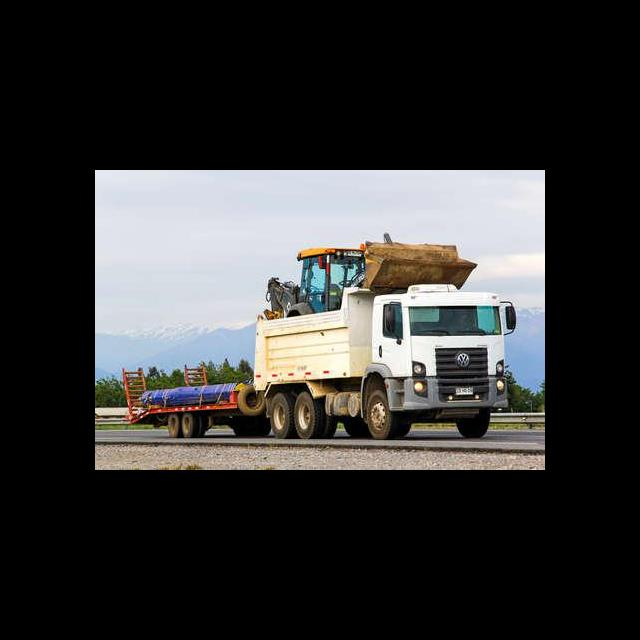dump truck: (255, 280, 520, 439)
wheel loader: (263, 234, 478, 320)
